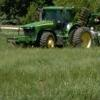Tractor: (13, 5, 98, 51)
